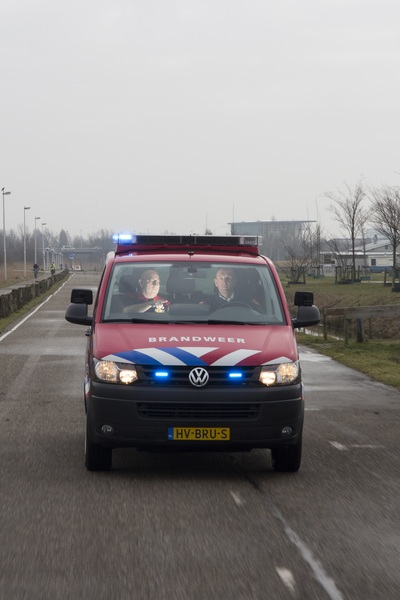kenteken: (169, 427, 228, 441)
